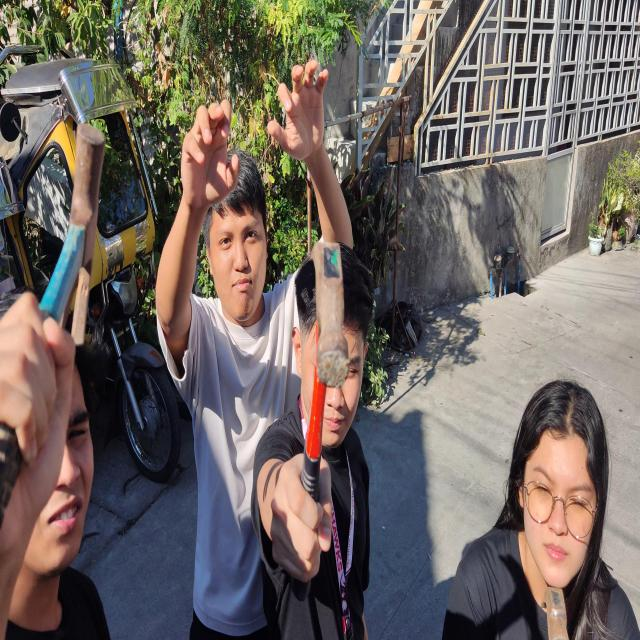hammer: (0, 121, 106, 531), (288, 242, 349, 604), (540, 584, 569, 640)
